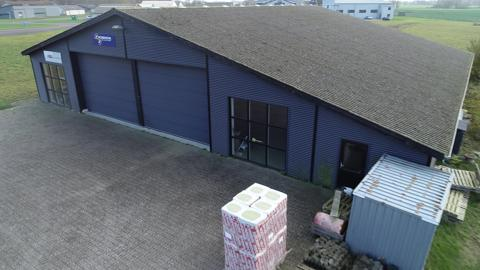RockwoolPallet: (220, 182, 288, 270)
